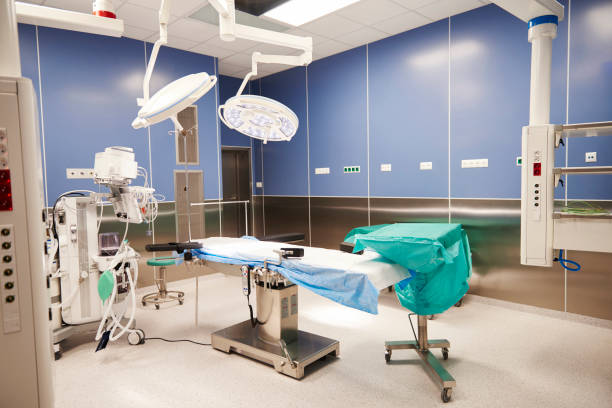breathing_tube: (95, 258, 141, 342)
chair: (147, 253, 186, 309)
iv_pole: (170, 125, 202, 241)
operating_bed: (180, 237, 414, 380)
surgical_light: (131, 72, 217, 129), (217, 93, 299, 145)
utility_cart: (341, 222, 472, 405)
